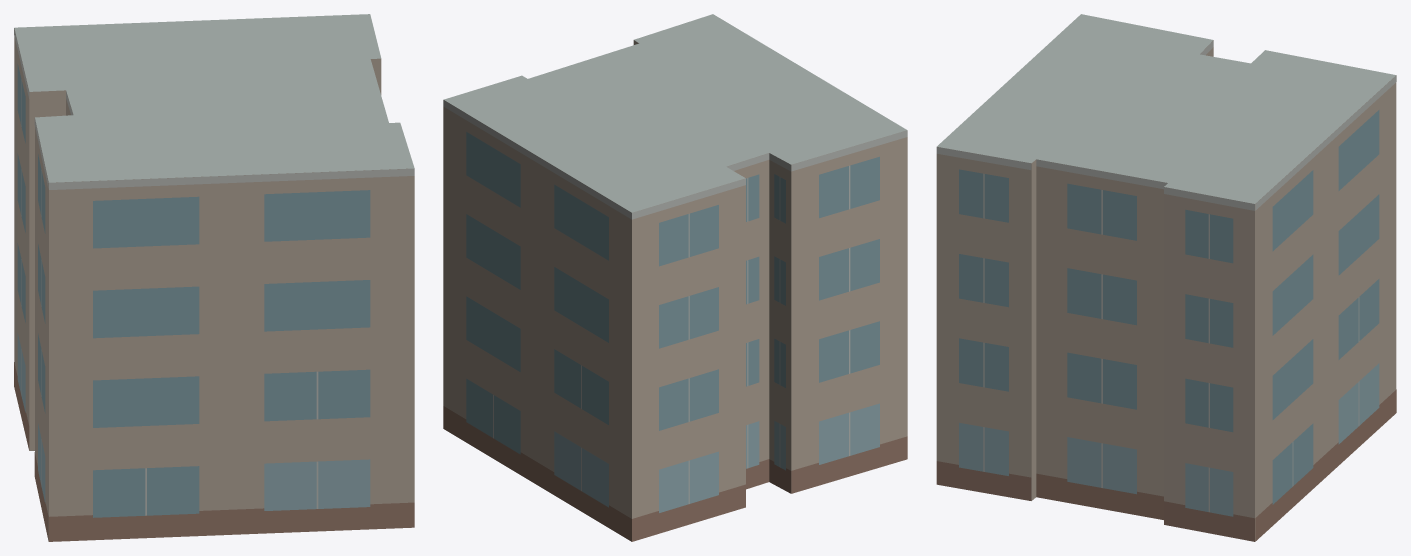
File: survey-upis-32746408.glb
3 renders of one model, left to right at view 1: azimuth 30°, elevation 25°; view 2: azimuth 150°, elevation 25°; view 3: azimuth 270°, elevation 25°, orthographic. The views are drawn at different scales.
Parts seen in each view (by area): view 1: survey-upis-32746408.tmp; view 2: survey-upis-32746408.tmp; view 3: survey-upis-32746408.tmp.
Boxes of the visible parts, x1=… form: survey-upis-32746408.tmp: x1=14, y1=14, x2=414, y2=541; survey-upis-32746408.tmp: x1=443, y1=14, x2=907, y2=541; survey-upis-32746408.tmp: x1=936, y1=14, x2=1396, y2=541.
Bounding box in the file's own units: 14.24 × 11.8 × 14.57.
